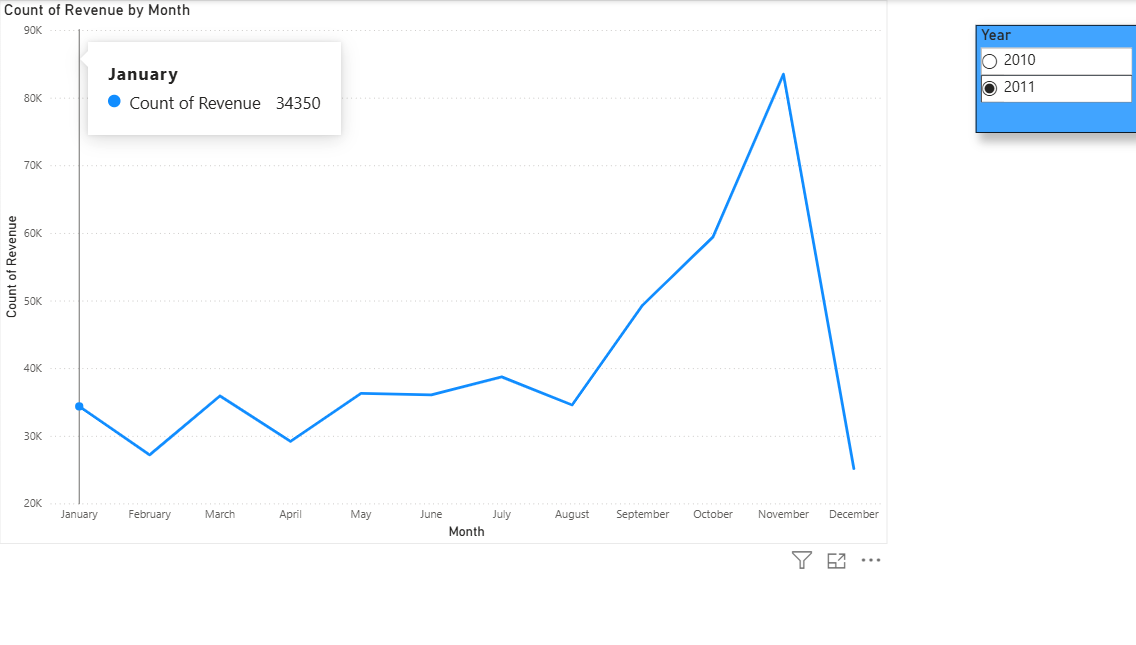

The dashboard page shown, as its layout file describes it:
{"tool":"powerbi","page":{"name":"Question 1","canvas":[1280,720],"ordinal":0},"visuals":[{"type":"lineChart","fields":{"Category":["Online Retail.InvoiceDate.Variation.Date Hierarchy.Month"],"Y":["CountNonNull(Online Retail.Revenue)"]},"box":[13.3,0,975,596.7],"z":0},{"type":"listSlicer","fields":{"Values":["Online Retail.InvoiceDate.Variation.Date Hierarchy.Year"]},"box":[1085.4,27.4,178.4,118],"z":1000}]}

Visuals, with their boxes in screenshot pixels (x1, y1, x2, y2), scaled from the page's 1280x720 canvas onto the 1136x645 screenshot:
lineChart - Online Retail.InvoiceDate.Variation.Date Hierarchy.Month x CountNonNull(Online Retail.Revenue): l=12, t=0, r=877, b=535
listSlicer - Online Retail.InvoiceDate.Variation.Date Hierarchy.Year: l=963, t=25, r=1122, b=130
